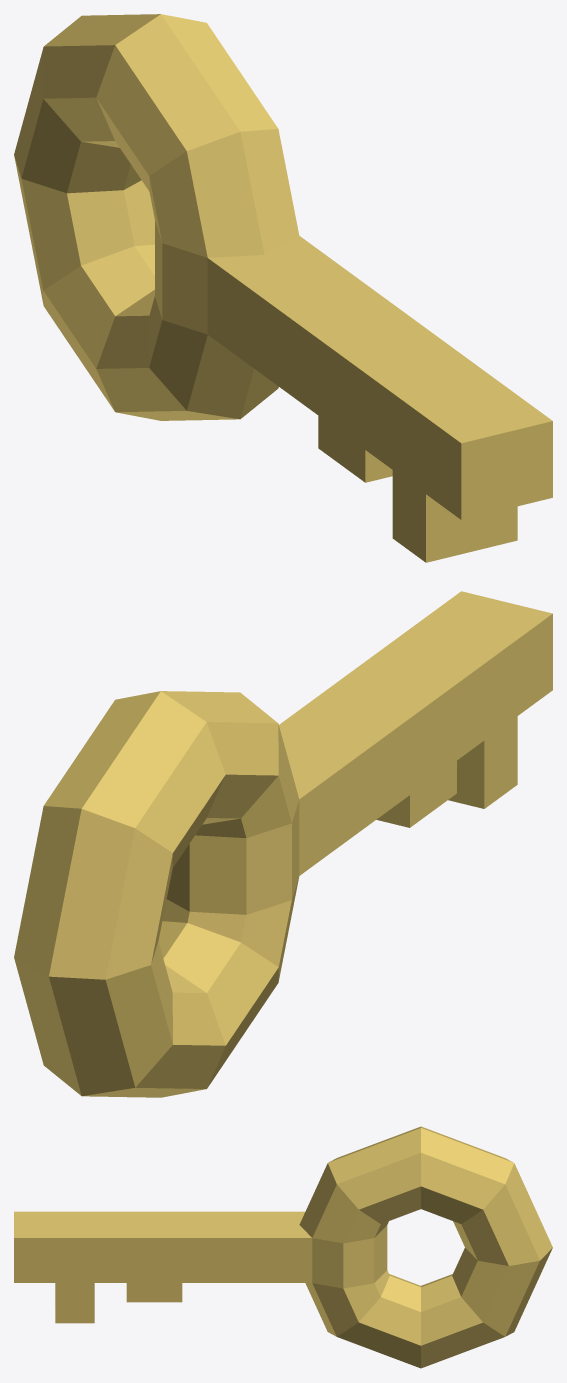
File: key.fbx
The picture shows the model from 3 angles, top to bottom: view 1: azimuth 30°, elevation 25°; view 2: azimuth 150°, elevation 25°; view 3: azimuth 270°, elevation 25°; orthographic projection. The views are drawn at different scales.
Visible parts, largest first — view 1: Key; view 2: Key; view 3: Key.
Boxes of the visible parts, x1=… form: Key: x1=14, y1=14, x2=552, y2=562; Key: x1=14, y1=591, x2=552, y2=1097; Key: x1=14, y1=1126, x2=552, y2=1368.
Bounding box in the file's own units: 0.0182 × 0.0546 × 0.1115.
